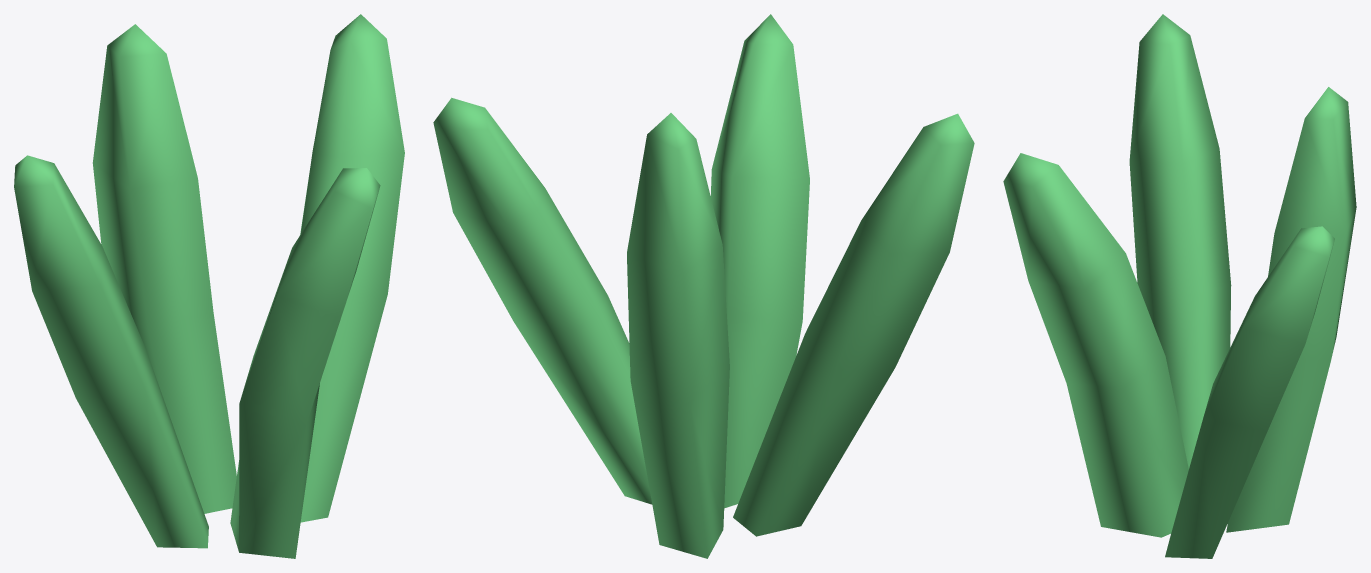
The model's file is Grass_A_02_LOD2.gltf.
The picture shows the model from 3 angles, left to right: view 1: azimuth 30°, elevation 25°; view 2: azimuth 150°, elevation 25°; view 3: azimuth 270°, elevation 25°; orthographic projection. The views are drawn at different scales.
Visible parts, largest first — view 1: Grass_A_02_LOD2_Cube.777; view 2: Grass_A_02_LOD2_Cube.777; view 3: Grass_A_02_LOD2_Cube.777.
Boxes of the visible parts, bbox=[...] form: Grass_A_02_LOD2_Cube.777: bbox=[14, 14, 404, 558]; Grass_A_02_LOD2_Cube.777: bbox=[433, 14, 974, 558]; Grass_A_02_LOD2_Cube.777: bbox=[1003, 14, 1356, 558].
Size of the model in its own units: 3.29 by 3.18 by 2.41.
1 material, 1 textured.
